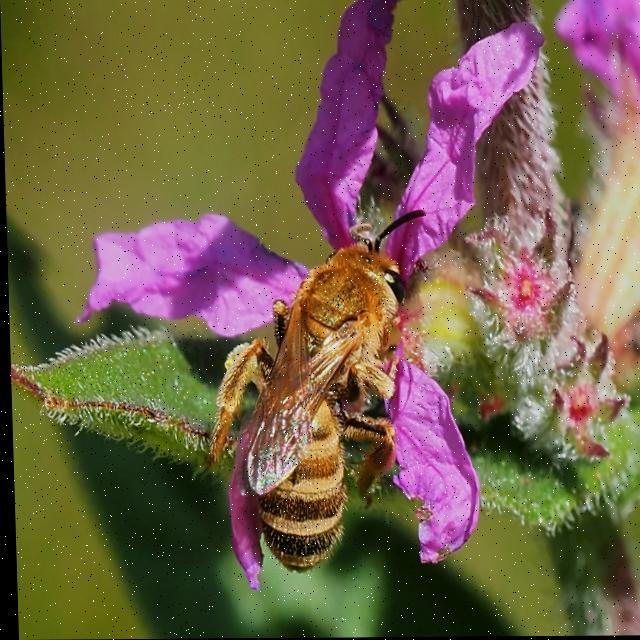Meliponula: (190, 198, 445, 596)
